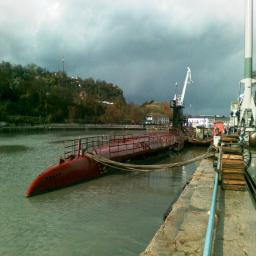submarine: (25, 82, 199, 197)
